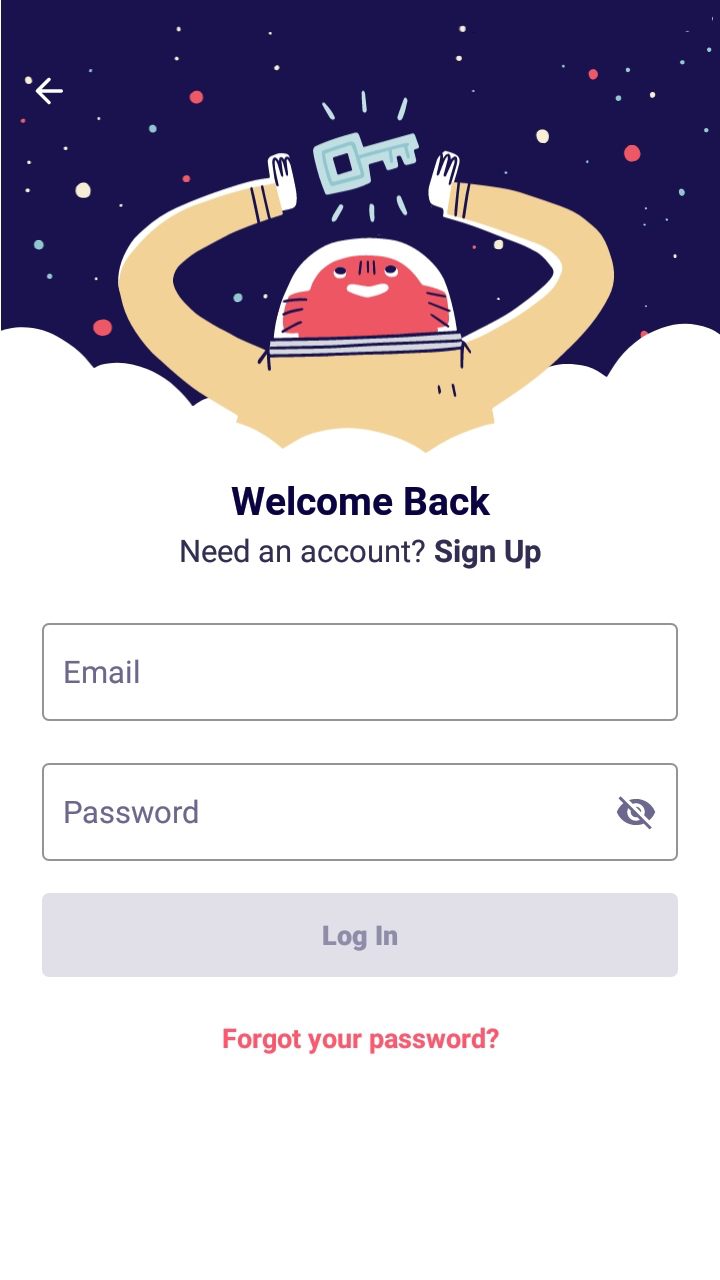EditText: (42, 763, 678, 862), (42, 624, 678, 722)
Icon: (616, 796, 655, 831), (36, 78, 64, 106)
Image: (1, 1, 720, 453)
Text: (182, 539, 542, 570), (231, 486, 491, 516), (224, 1027, 500, 1055), (66, 799, 199, 824), (66, 660, 140, 685)
TextButton: (42, 893, 678, 978)
